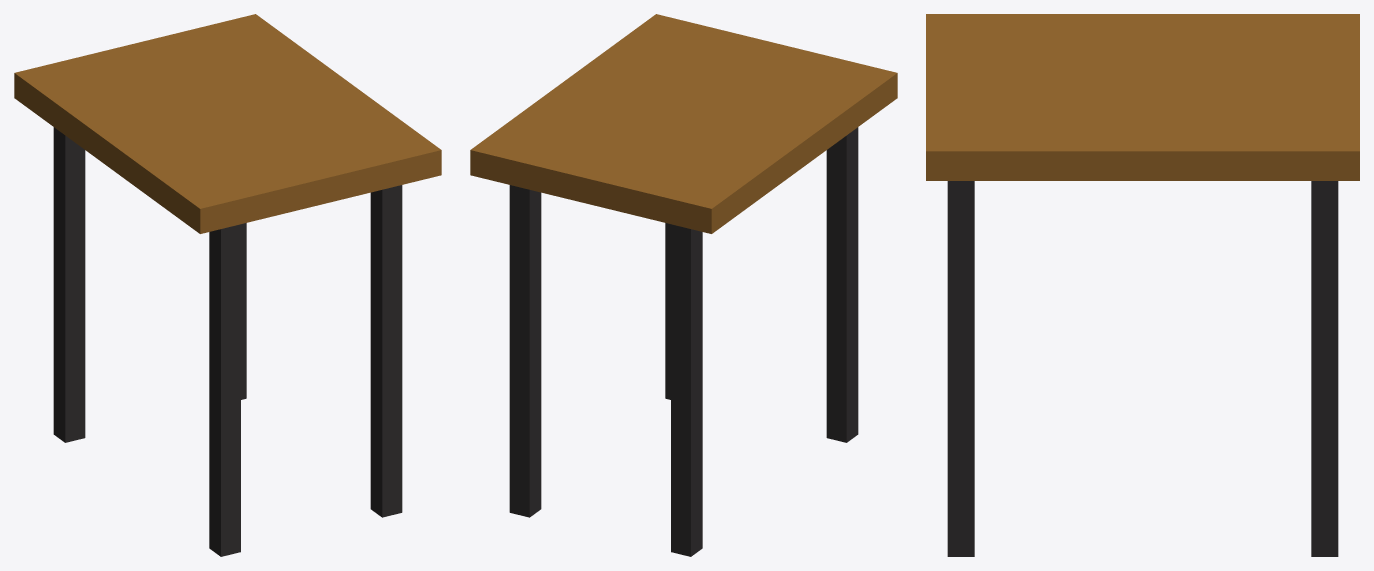
File: BasicTable.fbx
The picture shows the model from 3 angles, left to right: view 1: azimuth 30°, elevation 25°; view 2: azimuth 150°, elevation 25°; view 3: azimuth 270°, elevation 25°; orthographic projection. The views are drawn at different scales.
Visible parts, largest first — view 1: Table Legs; view 2: Table Legs; view 3: Table Legs.
Boxes of the visible parts, x1,y1,x2,y2 form: Table Legs: (14, 14, 441, 556); Table Legs: (470, 14, 897, 556); Table Legs: (926, 14, 1359, 556).
Size of the model in its own units: 600 by 860 by 800.
